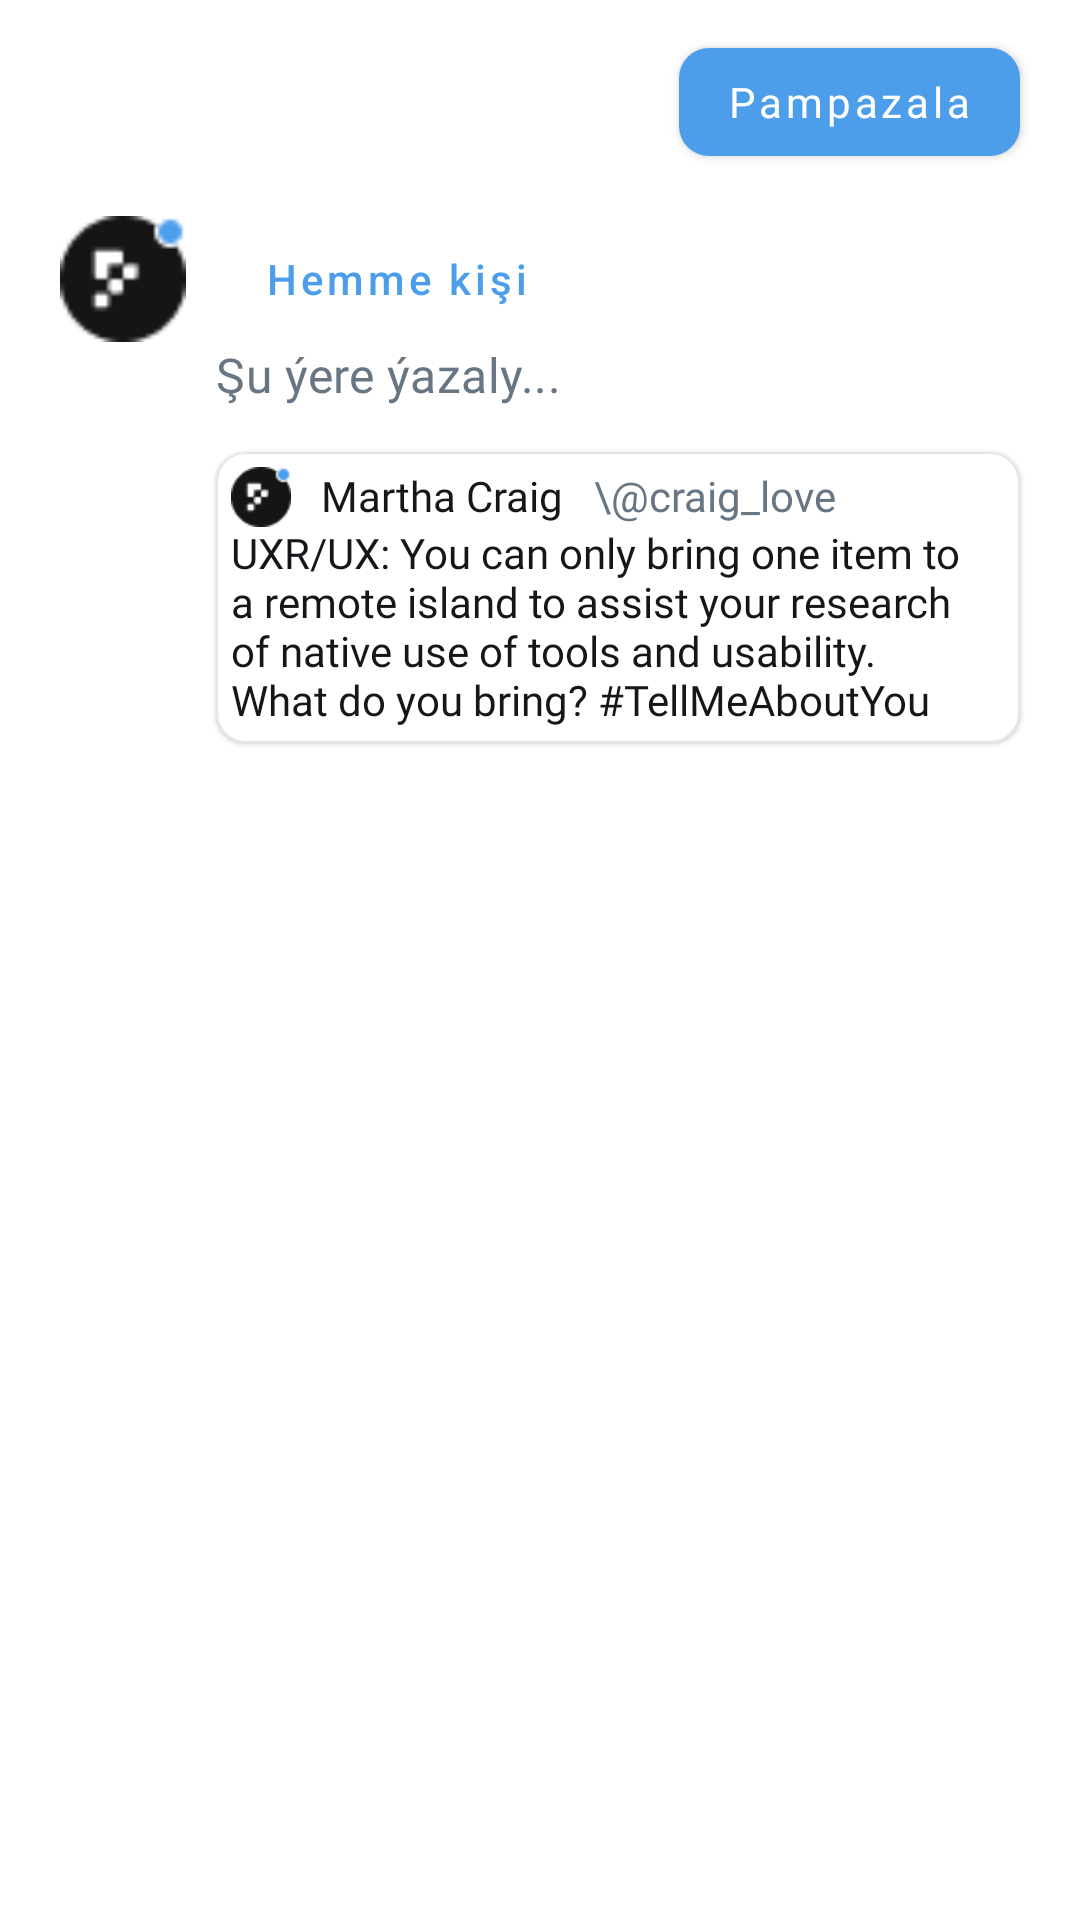

Icons on this 1080 x 1920 Android screen, each with the point to tap as (x,y):
account: (123,279), (261,497)
